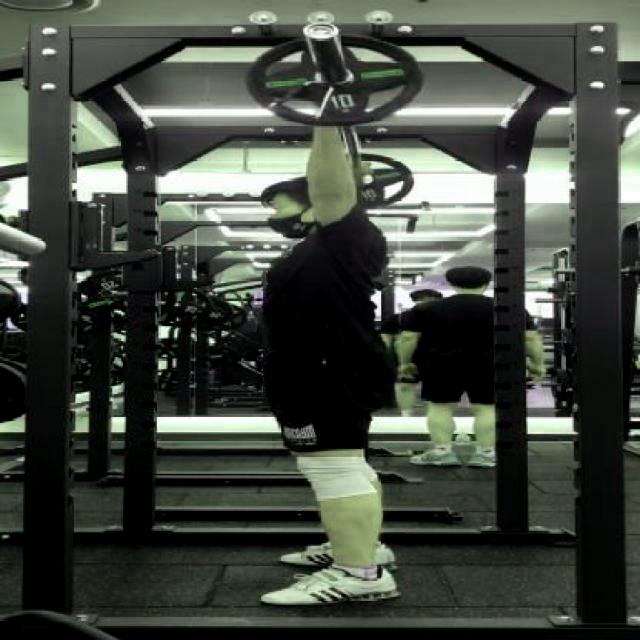barbell: (213, 20, 437, 126)
